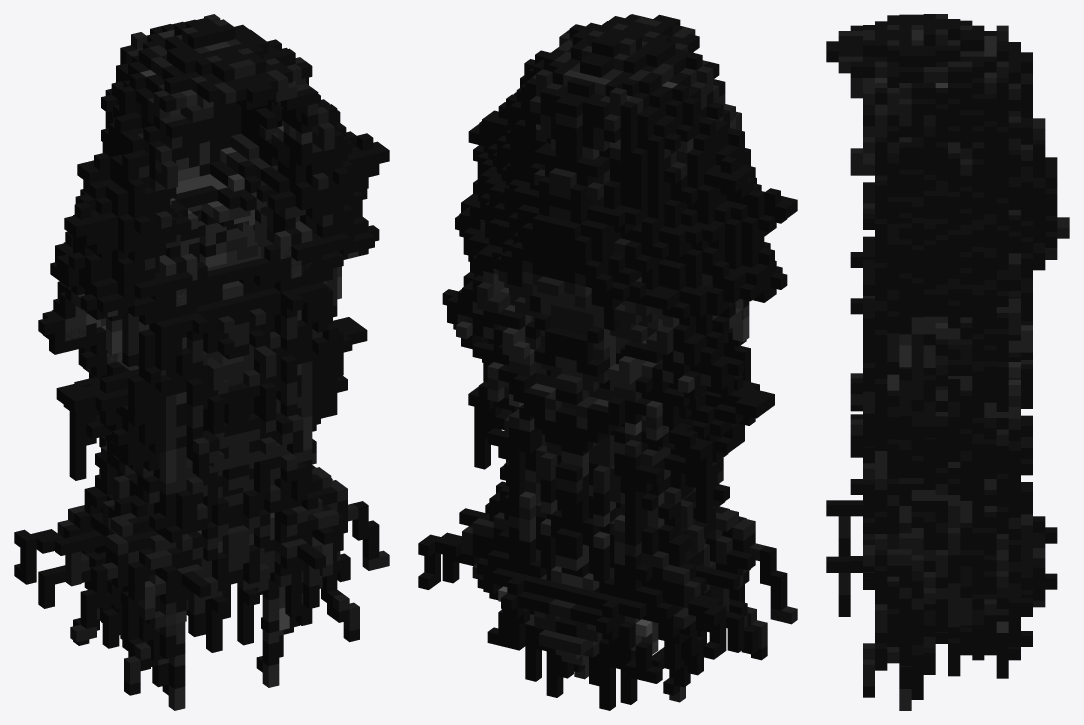
Rendered from cape_kamui.glb.
3 views of the same model, side by side, from view 1: azimuth 30°, elevation 25°; view 2: azimuth 150°, elevation 25°; view 3: azimuth 270°, elevation 25° (orthographic).
Parts seen in each view (by area): view 1: cape_kamui; view 2: cape_kamui; view 3: cape_kamui.
Boxes of the visible parts, bbox=[...] form: cape_kamui: bbox=[14, 14, 389, 710]; cape_kamui: bbox=[418, 14, 797, 710]; cape_kamui: bbox=[826, 14, 1069, 710].
Size of the model in its own units: 1.29 by 2.58 by 0.86.
Materials: 1 (1 with a texture image).
